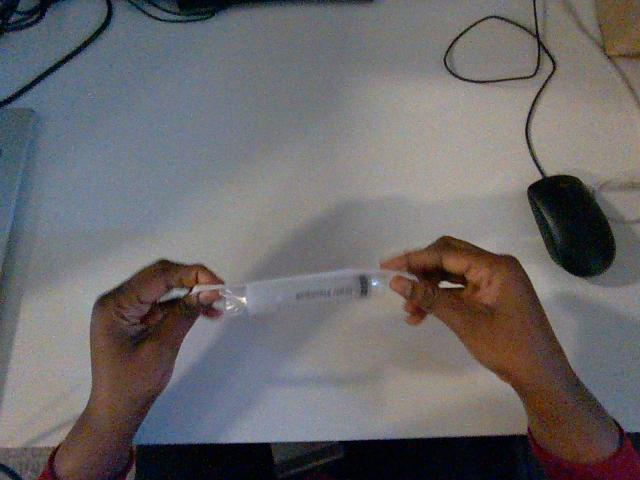syringe: (214, 269, 397, 317)
